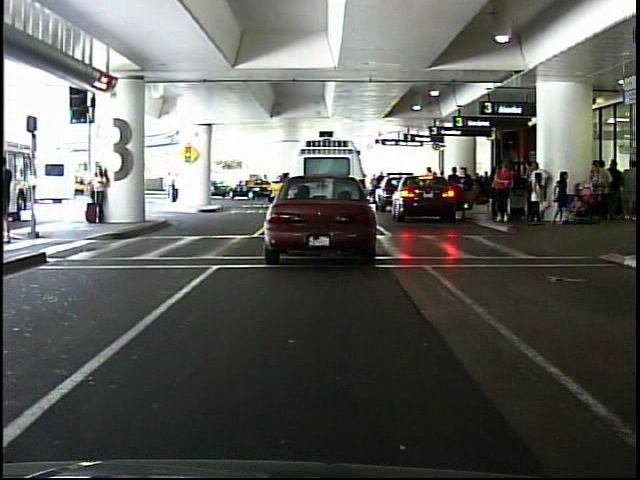person: (1, 151, 19, 242), (87, 159, 110, 225), (494, 160, 515, 225), (158, 162, 186, 205)
